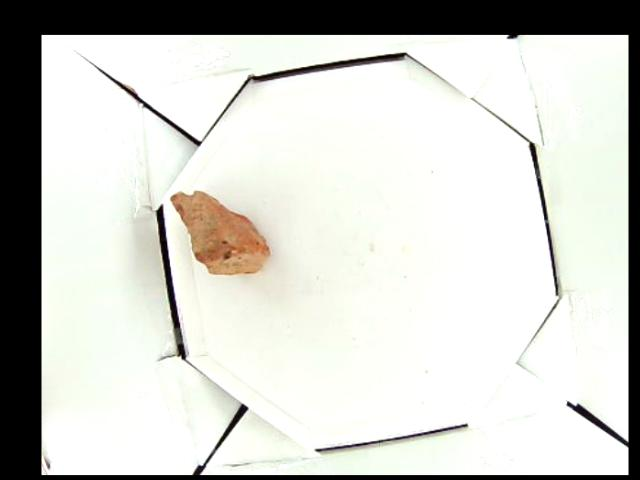Brisk: (166, 190, 268, 272)
